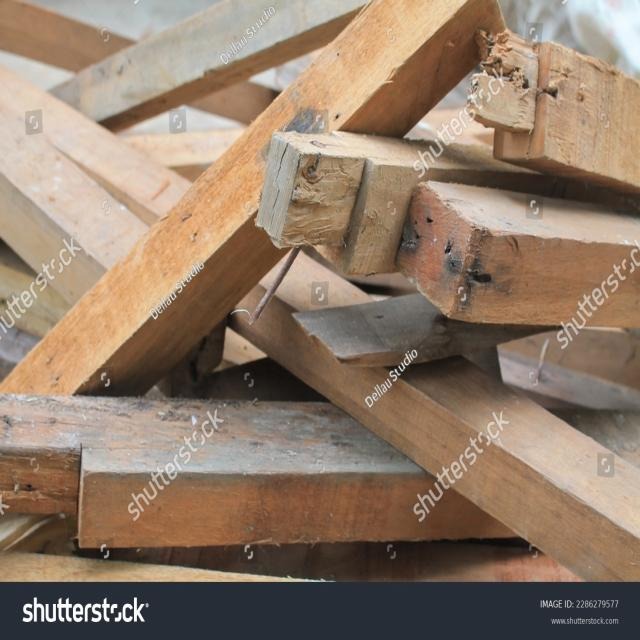green waste: (1, 3, 639, 583)
